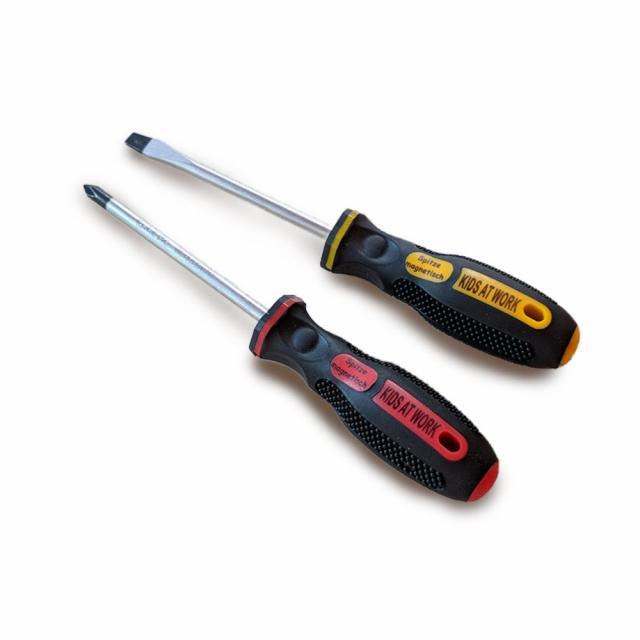screwdriver: (76, 178, 502, 502), (124, 128, 581, 374)
